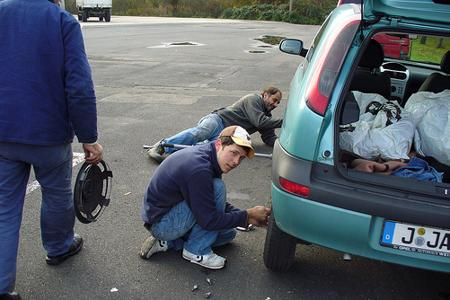person: (141, 124, 271, 271)
